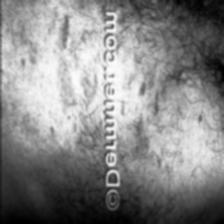Potentially Malignant Skin Tumors: (48, 1, 100, 110)
